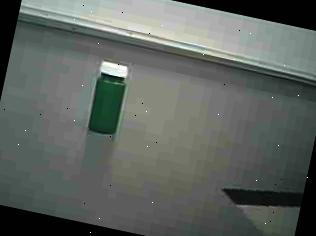Bottle C: (75, 53, 142, 148)
